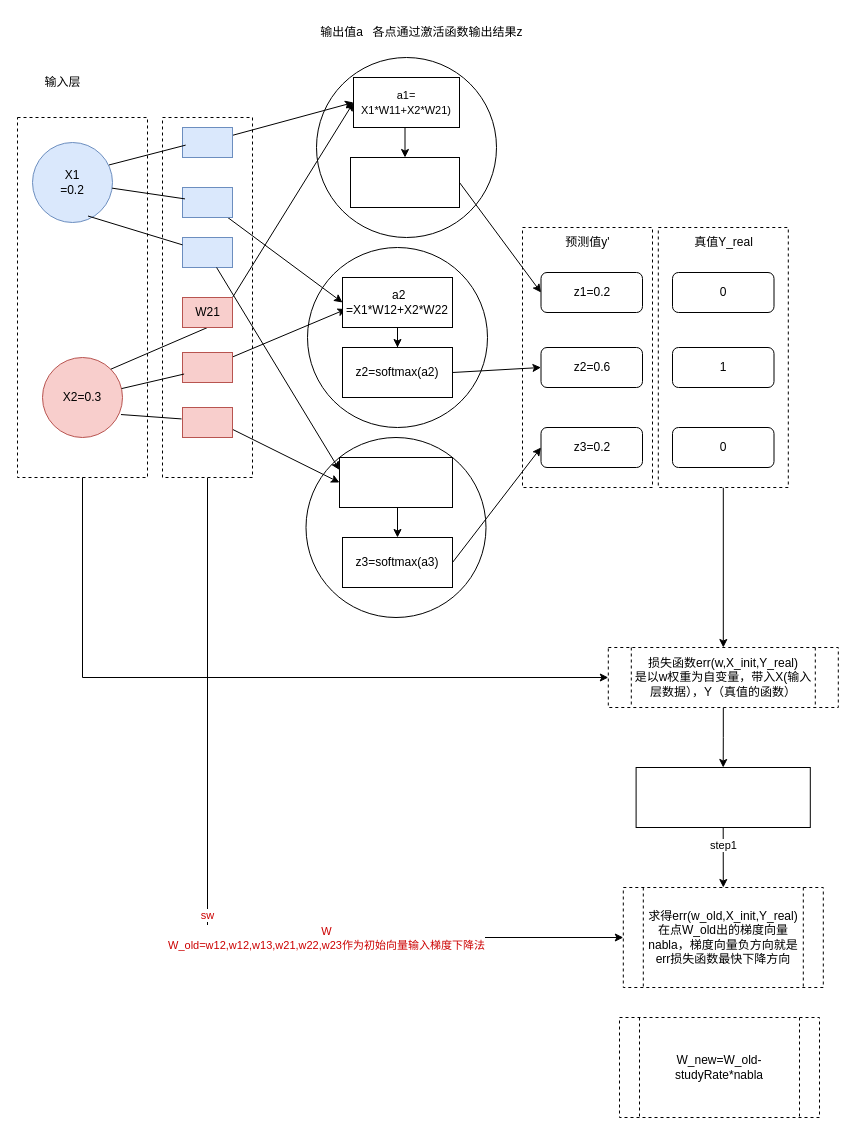
This 856x1135 diagram has some shape labels left out. The shapes that lost their labels are listed below. From the top down, each one's centre as x and y in pixels, then its label:
At (207,142): "W11".
At (207,202): "W12".
At (405,182): "z1=softmax(a1)".
At (207,252): "W13".
At (207,367): "W22".
At (207,422): "W23".
At (395,482): "a3= x1*w22+x2*w23".
At (722,797): "开始使用梯度下降法，找到新的W权重，使得损失函数值最小".
